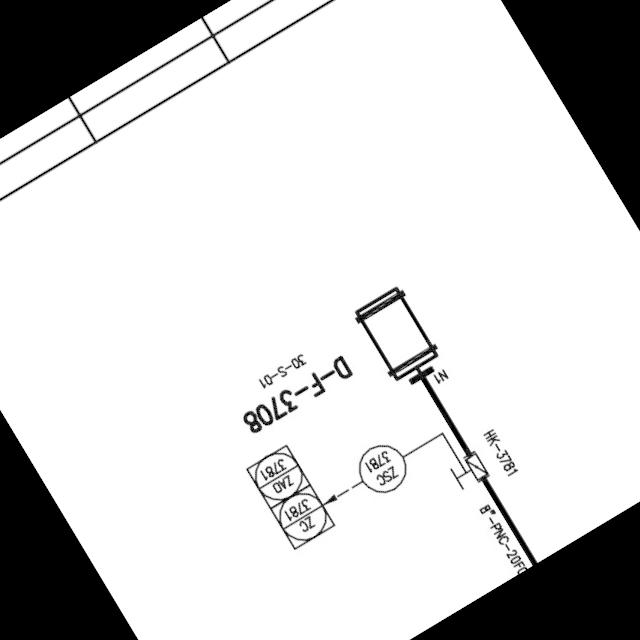BV: (440, 444, 498, 501)
D2: (347, 282, 445, 387)
